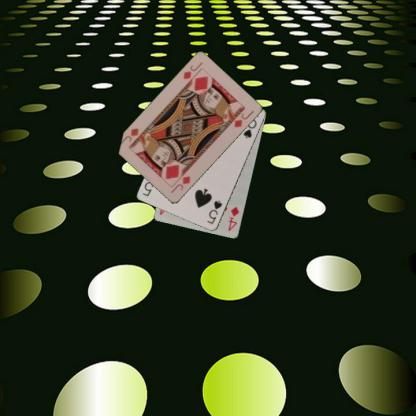4d: (225, 204, 241, 232)
5s: (204, 198, 223, 226)
Jd: (168, 173, 192, 195), (181, 59, 204, 81)
